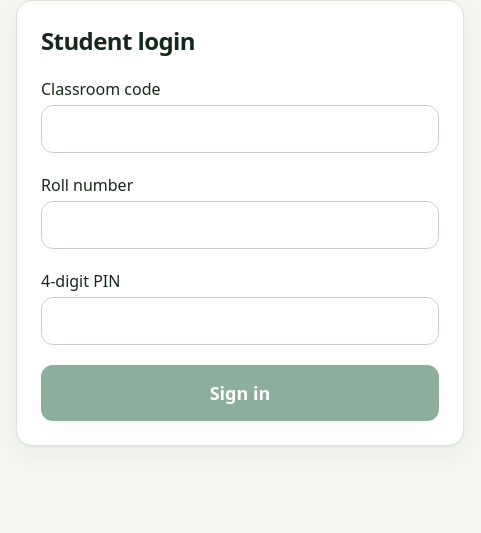
Test: student login › shows an error for a wrong PIN and stays on the login screen
In the field labelled "Classroom code": (240, 129) [41, 105, 439, 153], type "DEMO8B"
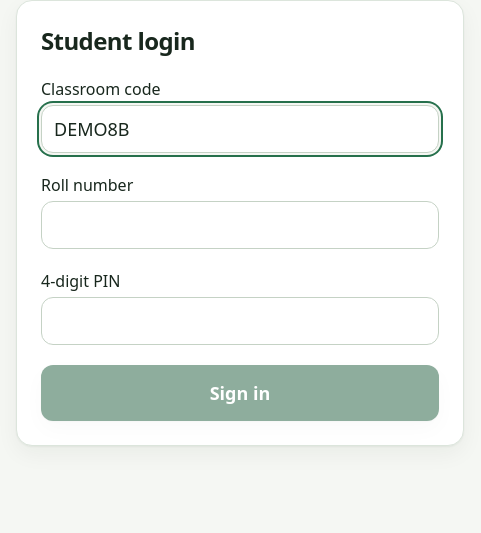
In the field labelled "Roll number": (240, 225) [41, 201, 439, 249], type "2"
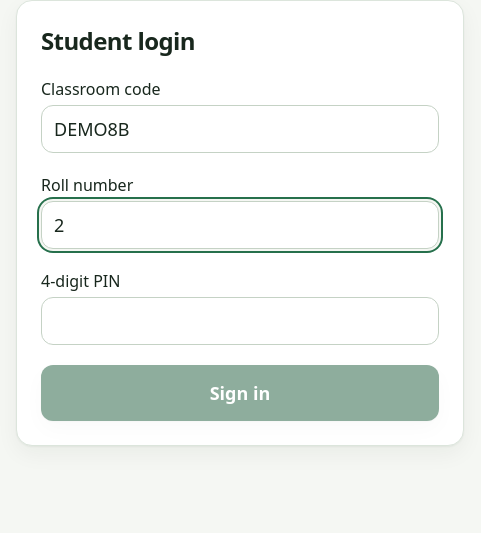
In the password field labelled "4-digit PIN": (240, 321) [41, 297, 439, 345], type "9999"
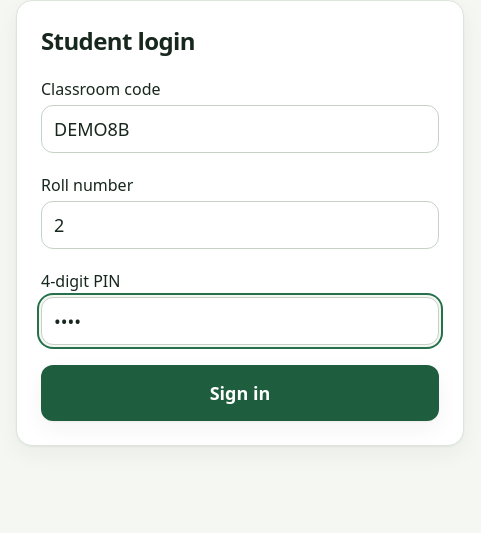
Click the button "Sign in": (240, 393) [41, 365, 439, 421]
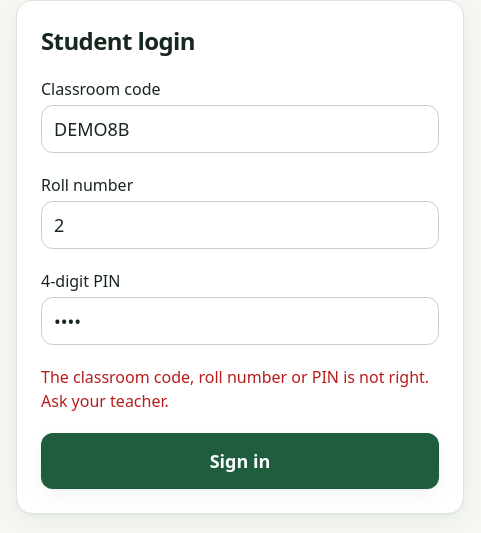
Now the message shows "not right", box [41, 366, 429, 412]
